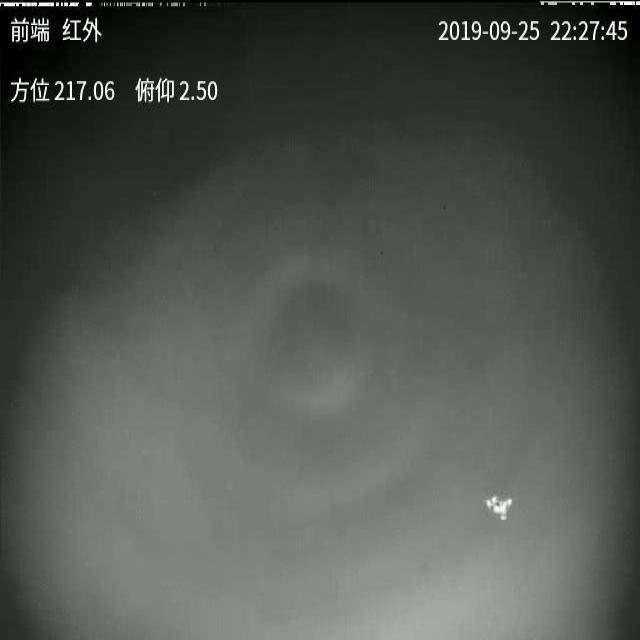drone: (484, 496, 516, 521)
